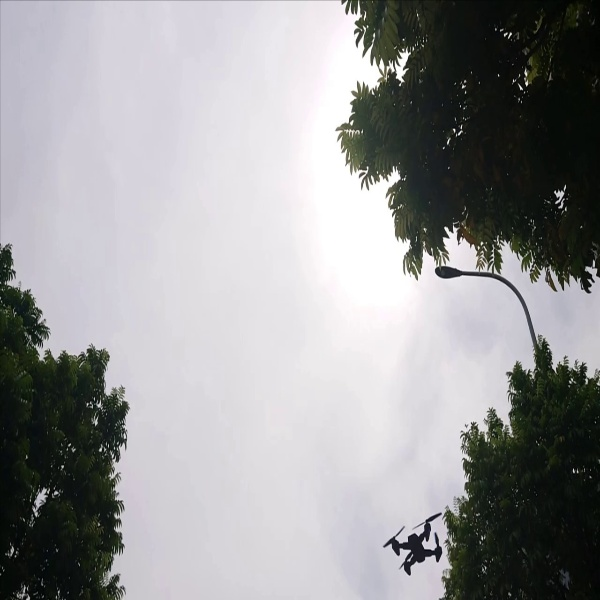drone: (376, 509, 446, 578)
